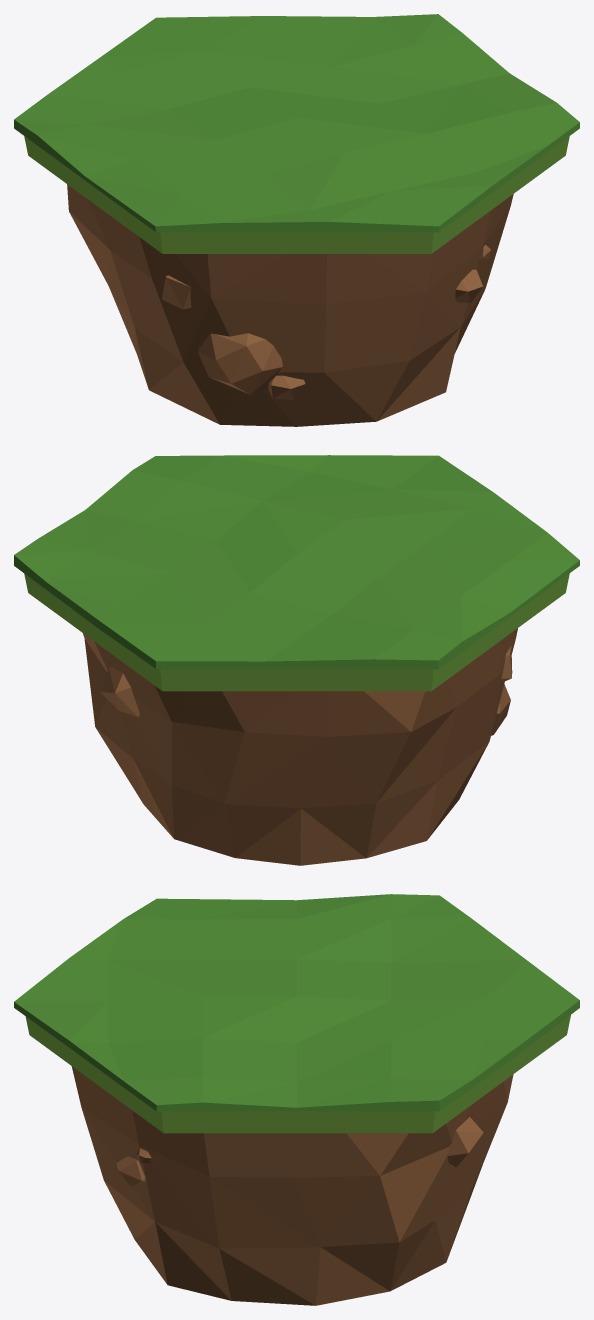
The model's file is terrains-hexagon-land.glb.
3 views of the same model, one above another, from view 1: azimuth 30°, elevation 25°; view 2: azimuth 150°, elevation 25°; view 3: azimuth 270°, elevation 25° (orthographic).
Parts seen in each view (by area): view 1: hexagon-land; view 2: hexagon-land; view 3: hexagon-land.
Boxes of the visible parts, bbox=[...] form: hexagon-land: bbox=[14, 14, 579, 426]; hexagon-land: bbox=[14, 455, 579, 865]; hexagon-land: bbox=[14, 894, 579, 1305].
Size of the model in its own units: 20 by 12.7 by 23.09.
